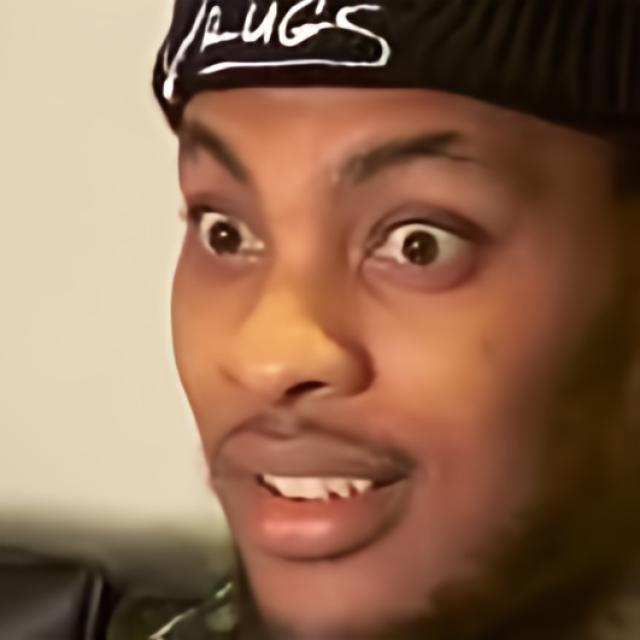surprise: (166, 76, 640, 640)
